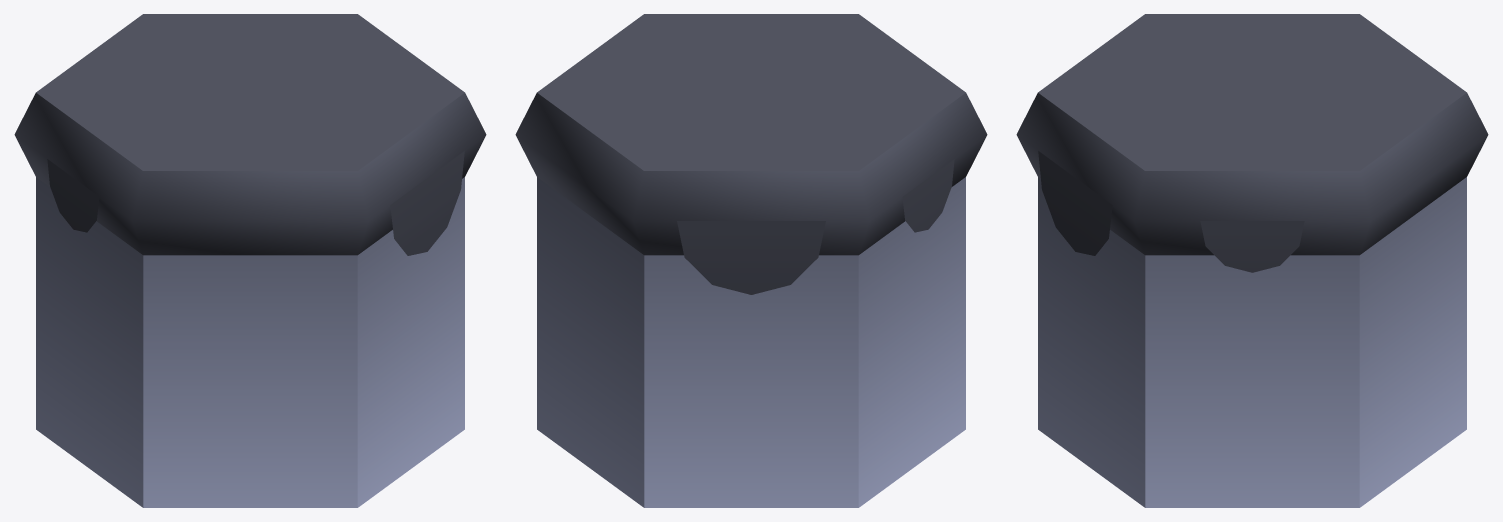
Rendered from block-snow-overhang-hexagon.glb.
3 views of the same model, side by side, from view 1: azimuth 30°, elevation 25°; view 2: azimuth 150°, elevation 25°; view 3: azimuth 270°, elevation 25° (orthographic).
Parts seen in each view (by area): view 1: block-snow-overhang-hexagon; view 2: block-snow-overhang-hexagon; view 3: block-snow-overhang-hexagon.
Boxes of the visible parts, x1,y1,x2,y2 form: block-snow-overhang-hexagon: (14, 14, 486, 507); block-snow-overhang-hexagon: (515, 14, 987, 507); block-snow-overhang-hexagon: (1016, 14, 1488, 507).
Size of the model in its own units: 1.1 by 1 by 1.27.
